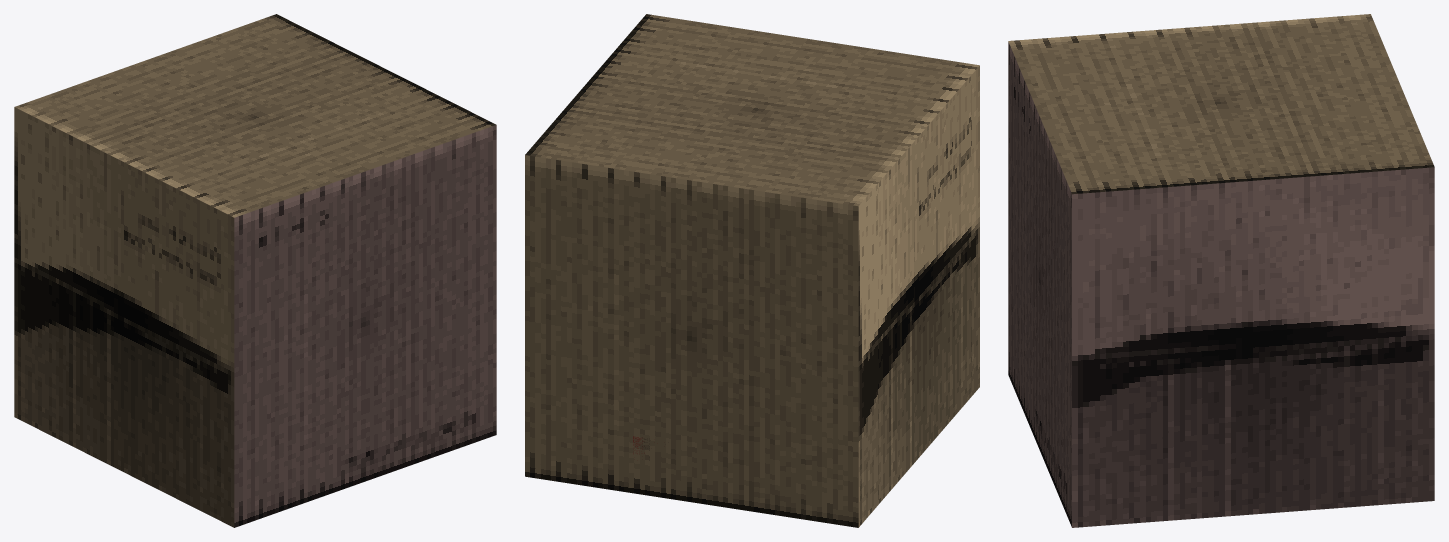
The model's file is primary_072.glb.
The picture shows the model from 3 angles, left to right: view 1: azimuth 30°, elevation 25°; view 2: azimuth 150°, elevation 25°; view 3: azimuth 270°, elevation 25°; orthographic projection. The views are drawn at different scales.
Parts seen in each view (by area): view 1: Object; view 2: Object; view 3: Object.
Boxes of the visible parts, box(x1,y1,x2,y2) form: Object: box(14, 14, 496, 527); Object: box(525, 14, 979, 527); Object: box(1008, 14, 1434, 527).
Bounding box in the file's own units: 1.1 × 0.9501 × 1.1.
Materials: 6 (6 with a texture image).
